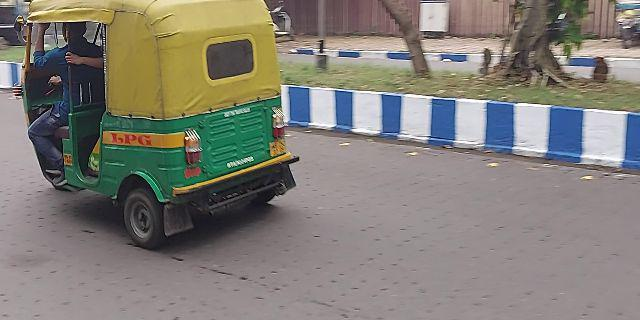Autorickshaw: (17, 1, 302, 242)
